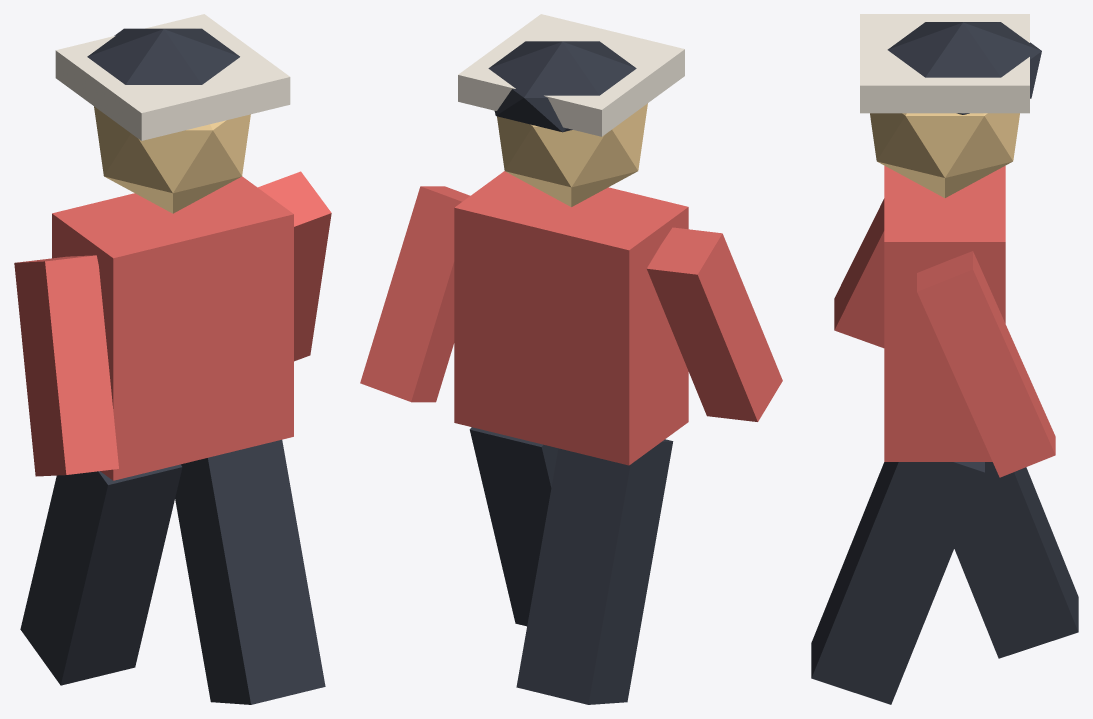
Rendered from people_jogger.glb.
3 renders of one model, left to right at view 1: azimuth 30°, elevation 25°; view 2: azimuth 150°, elevation 25°; view 3: azimuth 270°, elevation 25°, orthographic. The views are drawn at different scales.
Parts seen in each view (by area): view 1: people_jogger; view 2: people_jogger; view 3: people_jogger.
Part boxes in pixels (x1,y1,x2,y2): people_jogger: (14, 14, 331, 704); people_jogger: (360, 14, 782, 704); people_jogger: (811, 14, 1078, 704).
Bounding box in the file's own units: 0.0621 × 0.1167 × 0.044.
